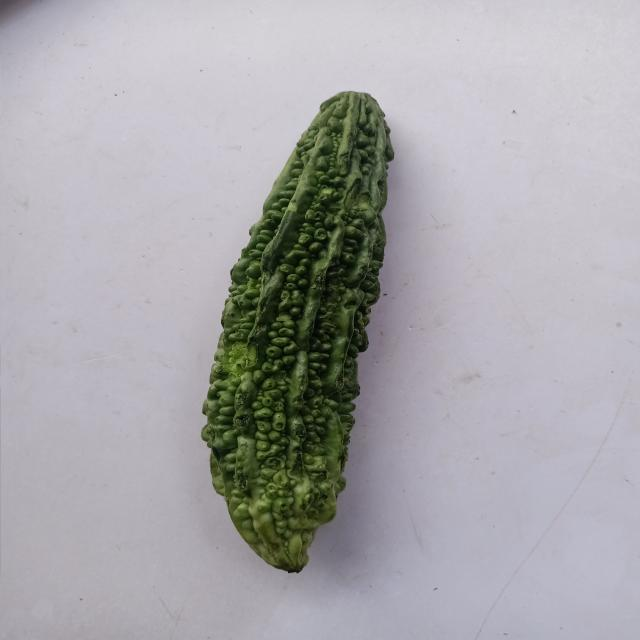Bitter Gourd: (160, 59, 482, 614)
